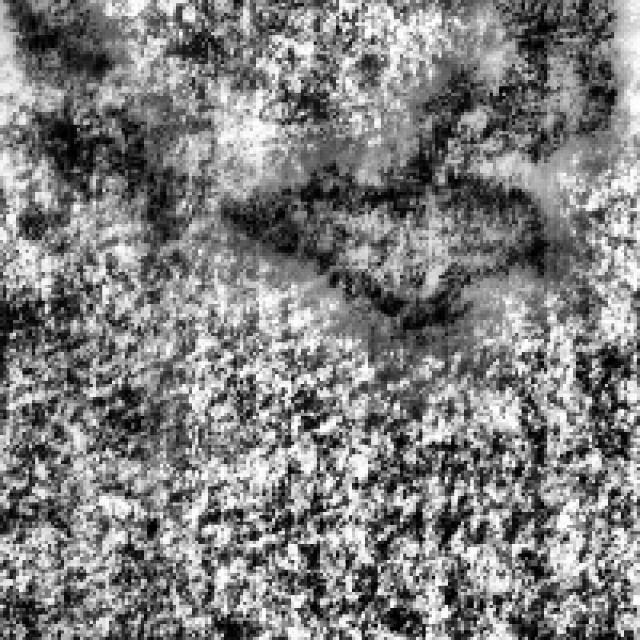Scratches: (233, 12, 580, 326), (26, 16, 196, 240), (10, 3, 119, 96)
